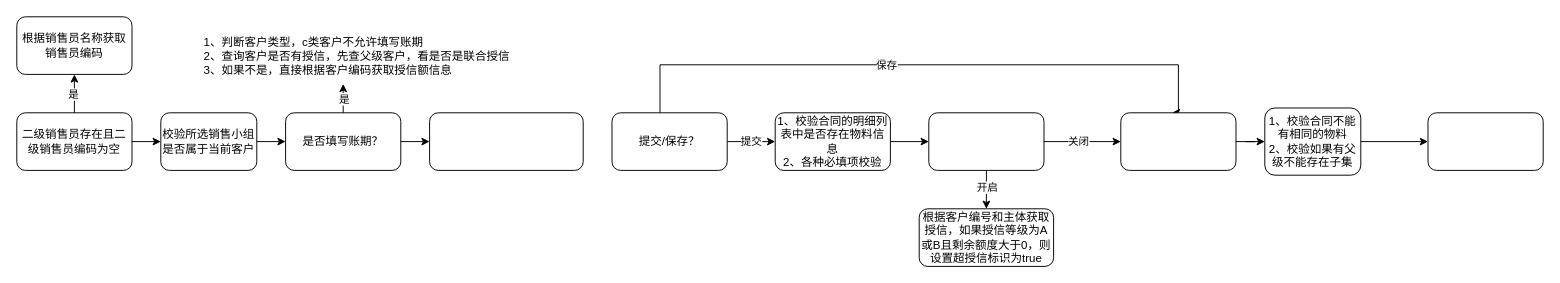
Image size: 1560x283. Some labels were removed from this diagram. Each missing label, with the centre of its shape:
"判断当前主体是否开启超授信业务审批流主体开关" belongs at (x=986, y=141).
"校验获取物料是否物料大类，是则报错" belongs at (x=1178, y=141).
"校验销售合同中的物料信息，并统计危险化学品数量，并查询当前主体和部门是否开启危险化学品经营校验开关" belongs at (x=506, y=141).
"添加销售合同详情" belongs at (x=1485, y=141).
